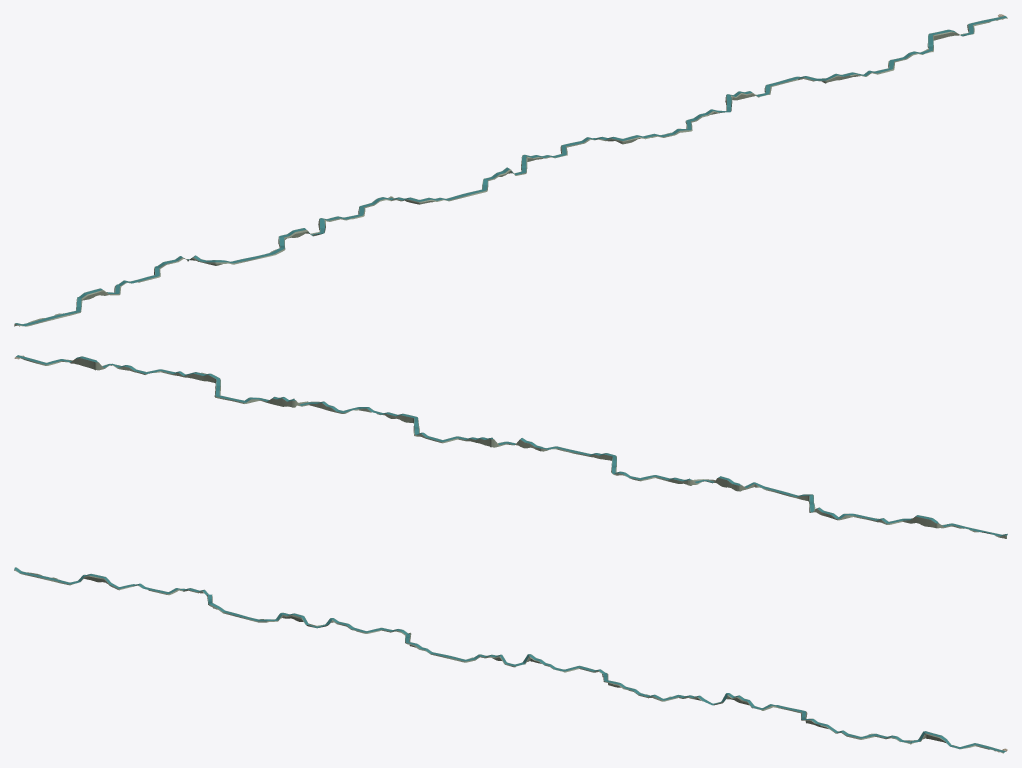
Rendered from river.glb.
3 renders of one model, top to bottom at view 1: azimuth 30°, elevation 25°; view 2: azimuth 150°, elevation 25°; view 3: azimuth 330°, elevation 25°, orthographic. The views are drawn at different scales.
Bounding box in the file's own units: 352 × 2.94 × 43.91.
